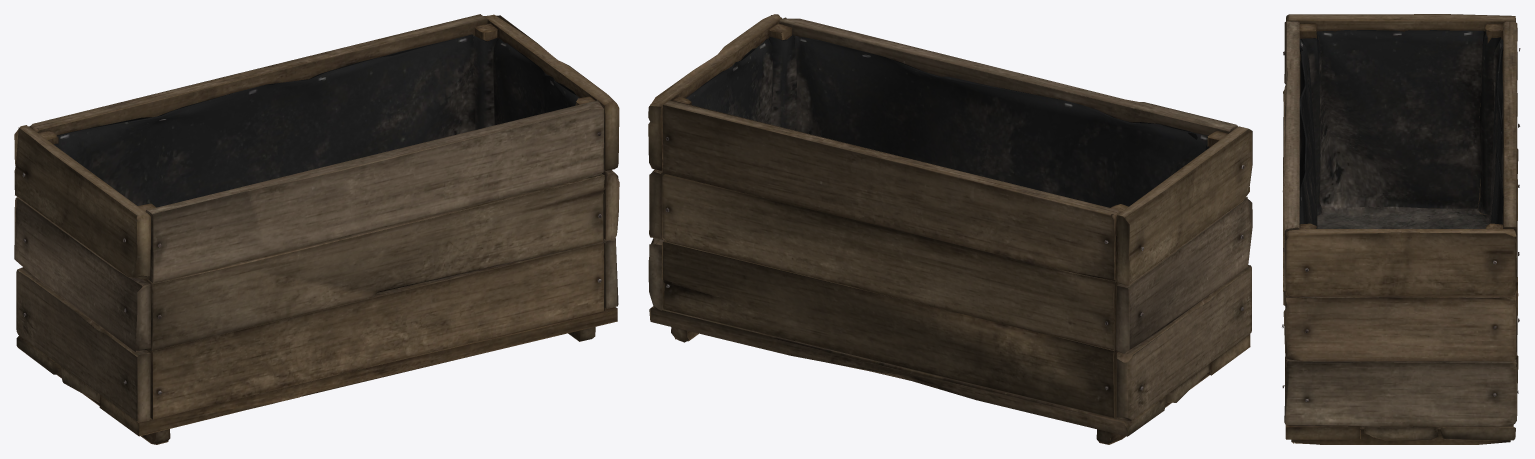
Rendered from planter.glb.
3 renders of one model, left to right at view 1: azimuth 30°, elevation 25°; view 2: azimuth 150°, elevation 25°; view 3: azimuth 270°, elevation 25°, orthographic. The views are drawn at different scales.
Parts seen in each view (by area): view 1: planter_box_01; view 2: planter_box_01; view 3: planter_box_01.
Boxes of the visible parts, x1,y1,x2,y2 form: planter_box_01: [14, 14, 619, 444]; planter_box_01: [648, 14, 1252, 444]; planter_box_01: [1282, 14, 1520, 444].
Bounding box in the file's own units: 0.9147 × 0.4262 × 0.4163.
1 material, 1 textured.
